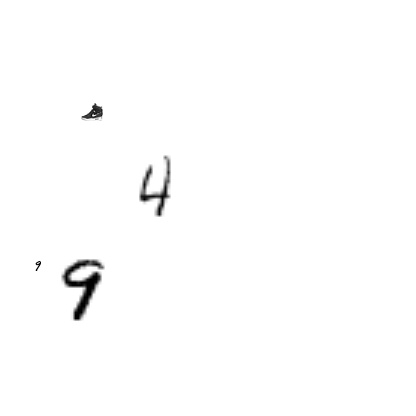4: (113, 147, 197, 231)
9: (41, 242, 125, 326), (31, 258, 45, 272)
Sneaker: (81, 101, 103, 123)
